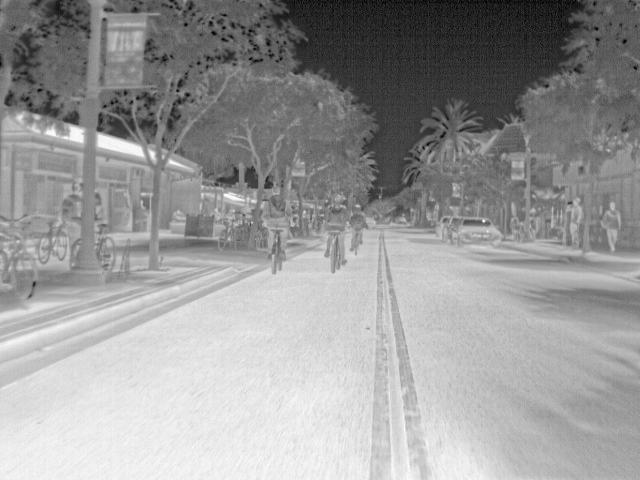car: (450, 218, 504, 246), (436, 214, 461, 239), (444, 218, 464, 240), (365, 214, 380, 230), (393, 215, 407, 224)
person: (265, 184, 290, 264), (324, 193, 348, 264), (62, 182, 82, 239), (602, 199, 623, 253), (565, 197, 585, 248), (94, 186, 104, 234), (351, 202, 366, 230), (510, 209, 522, 232), (302, 208, 309, 225)
